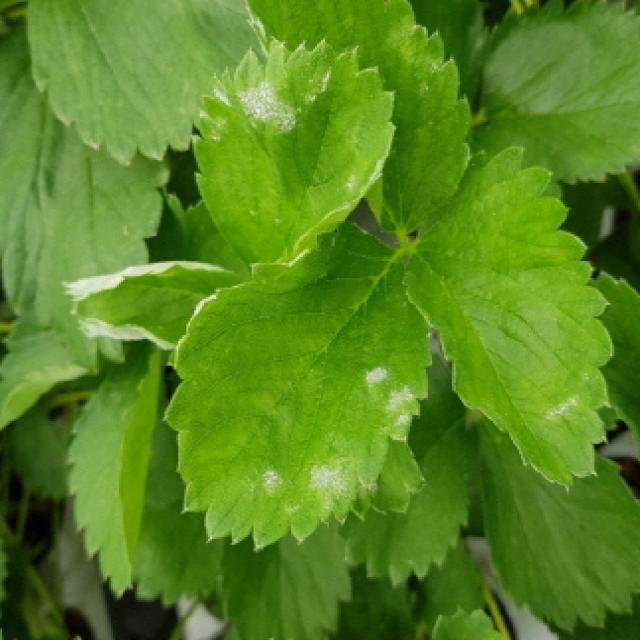Powdery Mildew Leaf: (165, 216, 434, 551), (404, 146, 616, 491), (244, 0, 473, 244), (193, 35, 398, 265), (59, 259, 250, 353)
